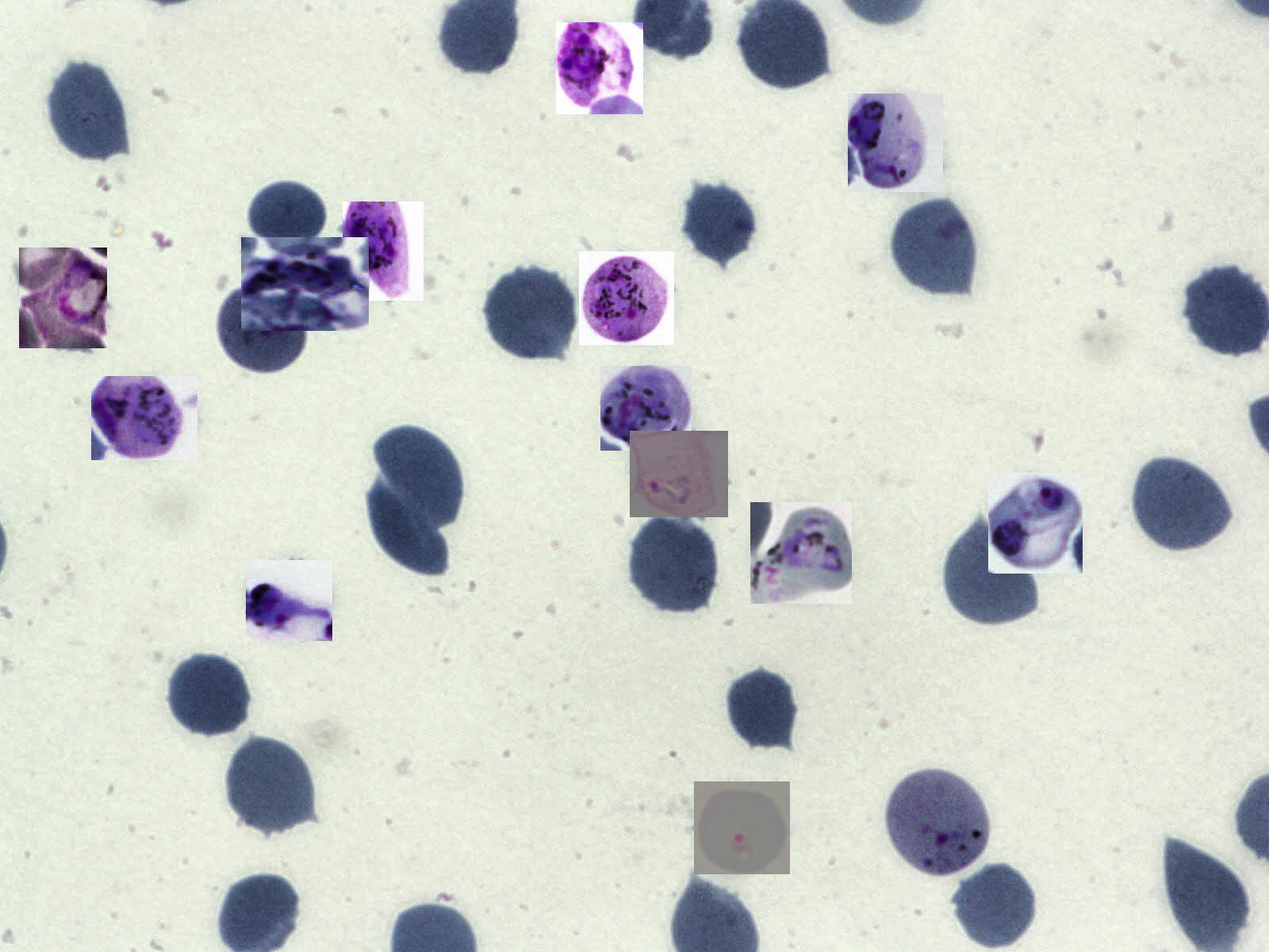Infected: (241, 237, 369, 331), (885, 766, 986, 877), (750, 502, 852, 604), (988, 473, 1083, 574), (848, 94, 943, 192), (214, 284, 311, 377), (579, 251, 674, 345), (694, 781, 790, 874), (91, 376, 197, 460), (20, 248, 107, 349), (630, 431, 728, 517), (343, 202, 424, 301), (556, 22, 643, 114), (600, 366, 692, 451), (246, 560, 332, 641)
Uninfected: (941, 520, 1041, 630), (1130, 454, 1233, 555), (888, 194, 981, 299), (224, 733, 316, 838), (627, 512, 719, 616), (482, 263, 577, 363), (374, 426, 464, 528), (46, 57, 129, 166), (366, 473, 450, 579), (952, 858, 1038, 950), (165, 652, 251, 738), (681, 180, 759, 265), (726, 665, 800, 751), (247, 179, 329, 253)
